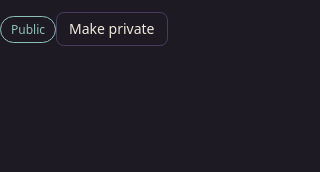
it: VisibilityToggle › makes a public beat private again
The width and height of the screenshot is (320, 172).
Expected: the text "Public" is shown, [0,16,56,43]
Click the button "Make private" at (112, 29), box [56,12,168,46]
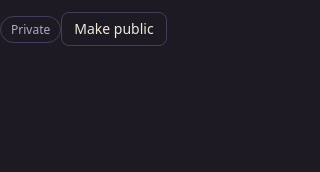
Now the text "Private" is shown, box [0,16,61,43]
Now the button "Make public" is shown, box [61,12,167,46]
